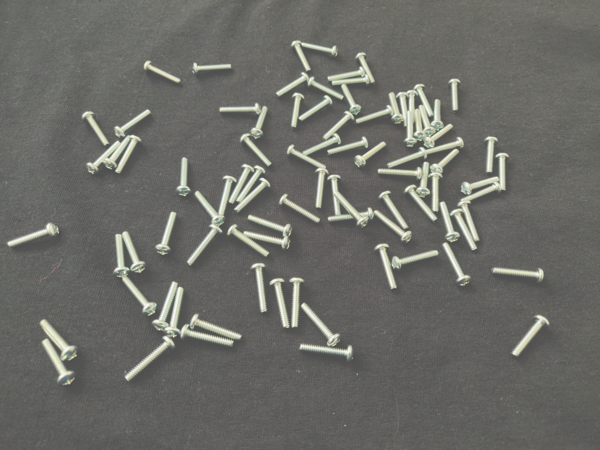longscrew: (123, 336, 177, 383), (300, 302, 342, 347), (40, 338, 78, 387), (38, 319, 79, 364), (511, 314, 552, 359), (186, 224, 224, 267), (189, 313, 243, 342), (121, 276, 158, 318), (7, 223, 60, 250), (151, 281, 179, 332), (234, 177, 272, 214), (180, 324, 234, 350), (373, 210, 413, 245), (403, 184, 438, 224), (442, 242, 472, 288), (227, 225, 270, 257), (334, 191, 370, 229), (277, 194, 321, 225), (377, 190, 410, 231), (85, 140, 122, 176), (449, 208, 479, 251), (194, 190, 227, 228), (235, 165, 267, 204), (163, 286, 186, 339), (300, 342, 355, 364), (228, 164, 256, 206), (373, 244, 398, 291), (269, 277, 291, 330), (114, 135, 143, 175), (240, 133, 273, 168), (121, 230, 147, 274), (114, 109, 152, 139), (391, 250, 440, 273), (286, 144, 327, 171), (456, 201, 482, 243), (102, 135, 132, 171), (248, 214, 293, 238), (250, 263, 271, 314), (155, 211, 178, 257), (244, 230, 292, 252), (81, 111, 110, 147), (322, 111, 355, 142), (299, 94, 334, 123), (302, 133, 342, 158), (460, 181, 503, 204), (143, 60, 182, 85), (289, 277, 307, 331), (491, 267, 545, 285), (307, 76, 344, 102), (353, 141, 387, 169), (276, 72, 311, 99), (387, 147, 428, 170), (439, 201, 461, 243), (327, 136, 370, 157), (328, 207, 375, 226), (355, 105, 395, 126), (113, 234, 132, 278), (218, 175, 237, 219), (430, 149, 461, 175), (425, 136, 465, 156), (423, 123, 455, 148), (413, 83, 435, 118), (461, 177, 500, 196), (340, 84, 363, 116), (355, 52, 376, 86), (291, 40, 312, 73), (176, 157, 193, 197), (302, 41, 339, 59), (327, 66, 366, 83), (327, 175, 343, 216), (428, 173, 444, 214), (250, 106, 269, 140), (315, 168, 330, 211), (377, 167, 423, 181), (418, 104, 437, 137), (495, 153, 511, 192), (192, 61, 233, 76), (290, 92, 305, 131), (484, 136, 499, 175), (416, 161, 431, 199), (219, 103, 262, 116), (403, 110, 418, 147), (388, 92, 404, 125), (396, 91, 410, 128), (448, 78, 462, 114), (332, 74, 370, 87), (431, 98, 445, 131), (406, 90, 419, 125), (414, 108, 427, 142)
